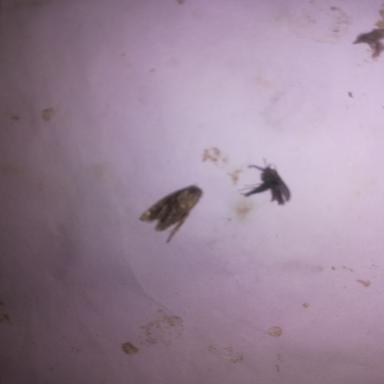pbw: (140, 185, 202, 243)
